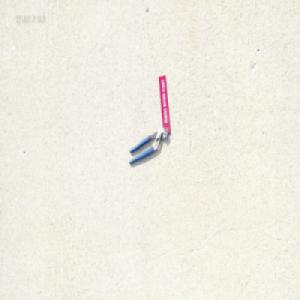Label: (158, 74, 170, 134)
Pliers: (128, 126, 167, 165)
